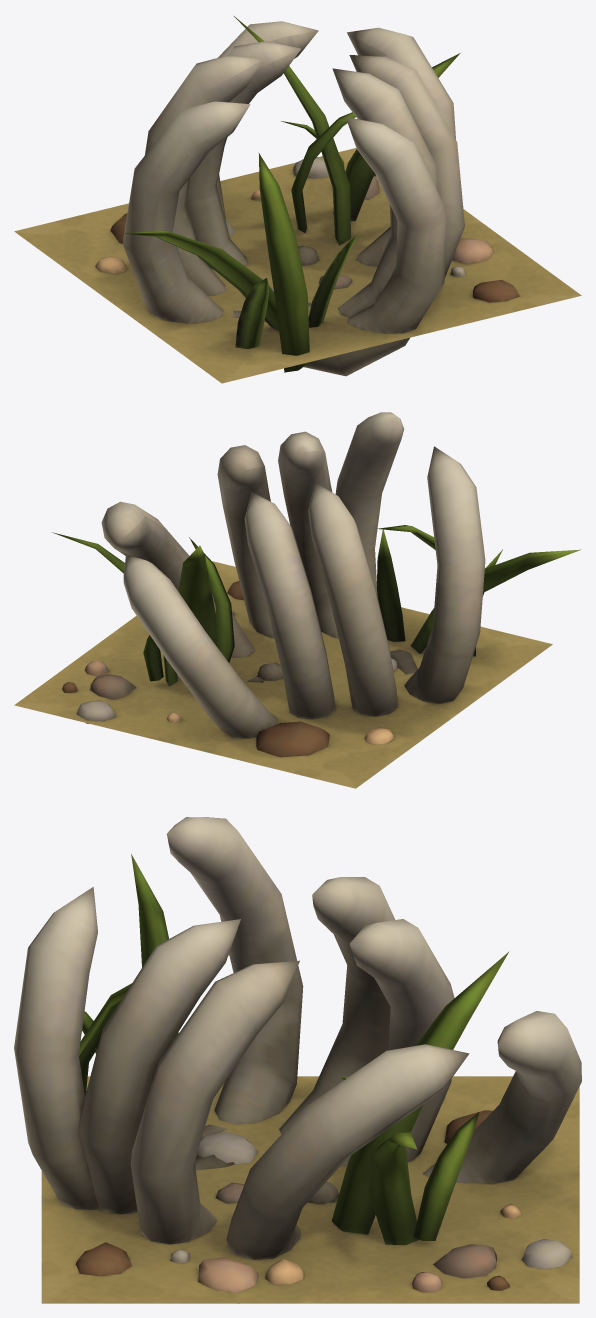
The model's file is }-ResteCote.FBX.
3 views of the same model, one above another, from view 1: azimuth 30°, elevation 25°; view 2: azimuth 150°, elevation 25°; view 3: azimuth 270°, elevation 25° (orthographic). The views are drawn at different scales.
Visible parts, largest first — view 1: }ResteCotes; view 2: }ResteCotes; view 3: }ResteCotes.
Part boxes in pixels (box(x1,y1,x2,y2)): }ResteCotes: box(14, 16, 581, 383); }ResteCotes: box(14, 412, 581, 788); }ResteCotes: box(14, 817, 581, 1303).
Size of the model in its own units: 2.49 by 1.5 by 2.11.
